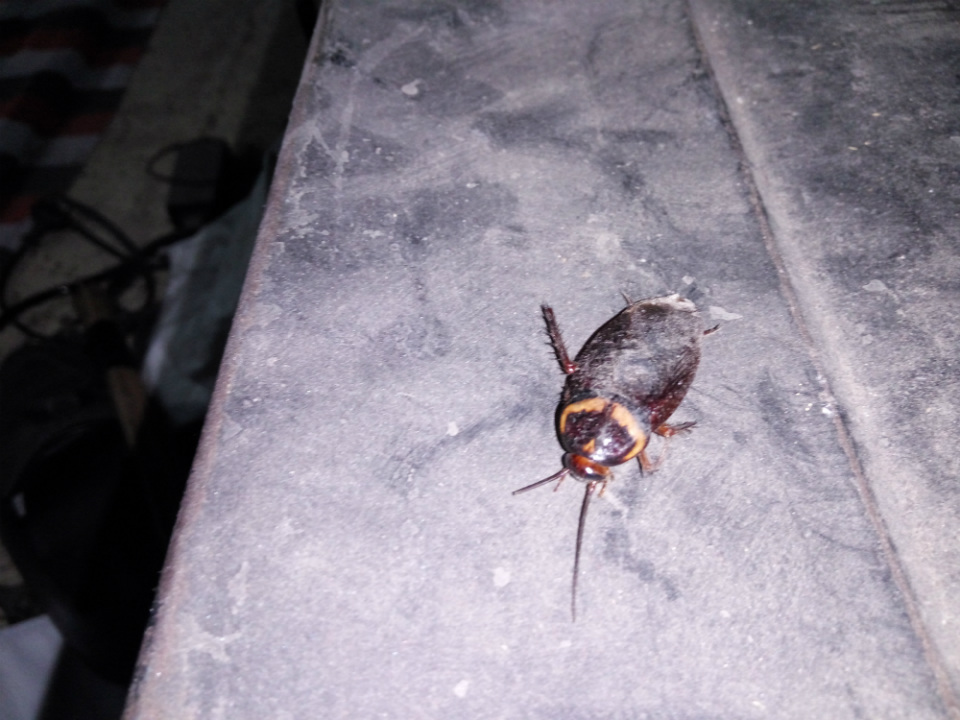cockroach: (484, 227, 762, 635)
